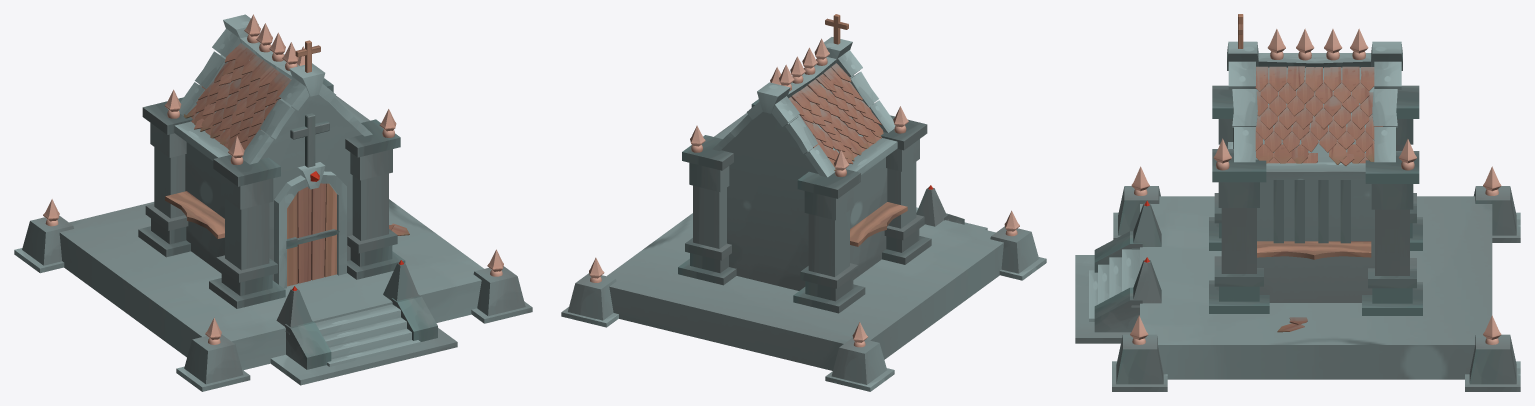
File: chapel_v2.fbx
3 renders of one model, left to right at view 1: azimuth 30°, elevation 25°; view 2: azimuth 150°, elevation 25°; view 3: azimuth 270°, elevation 25°, orthographic. The views are drawn at different scales.
Visible parts, largest first — view 1: polySurface111; view 2: polySurface111; view 3: polySurface111.
Boxes of the visible parts, x1,y1,x2,y2 form: polySurface111: [14, 14, 532, 391]; polySurface111: [561, 14, 1046, 391]; polySurface111: [1075, 14, 1520, 391].
Size of the model in its own units: 389 by 301 by 420.
